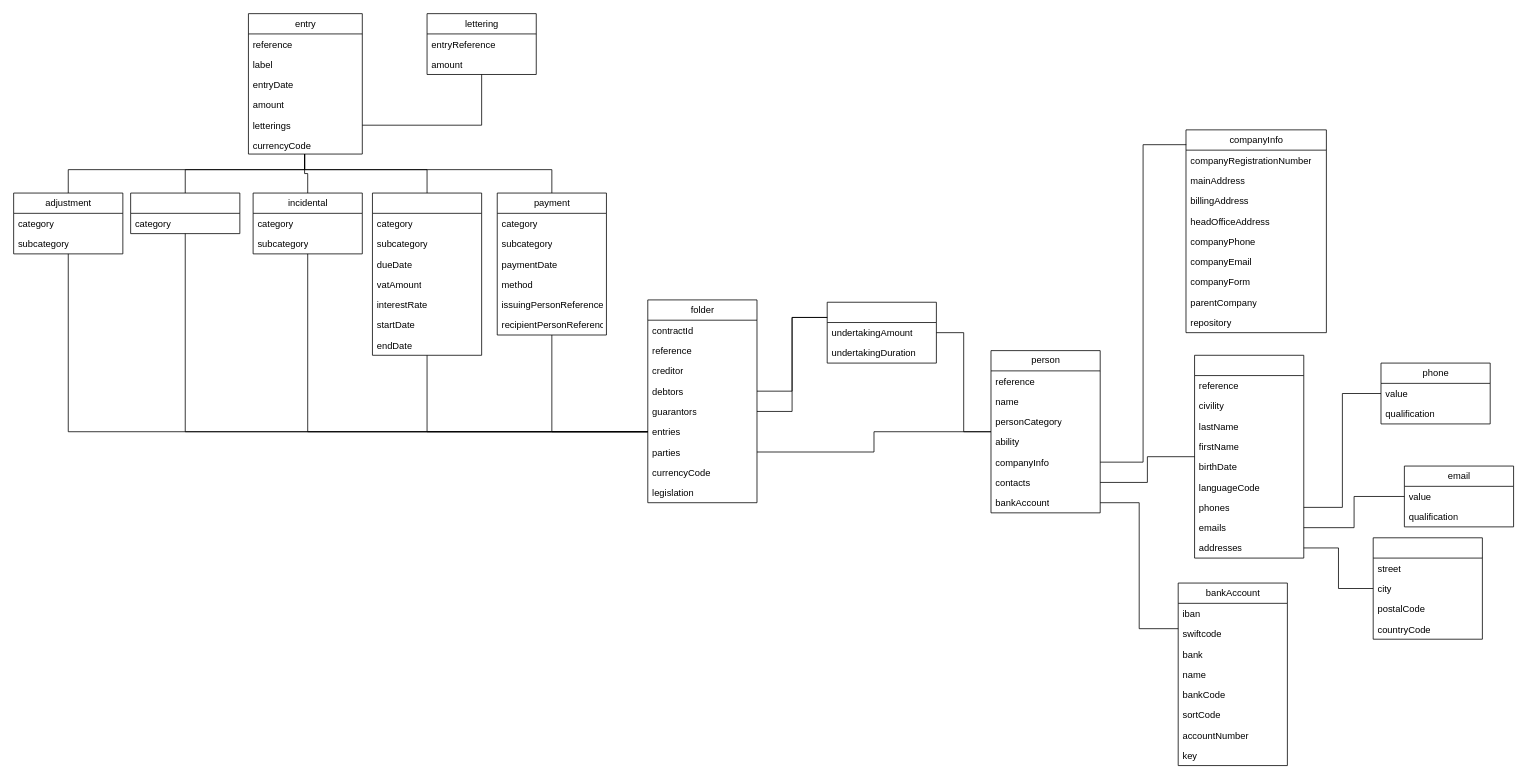
This 1527x782 diagram has some shape labels left out. The shapes that lost their labels are listed below. From the top down, each one's box as (x1, y1, x2, y2) in pixels, then its label:
(130, 192, 240, 234): creditNote
(372, 192, 482, 355): debt
(826, 301, 936, 363): debtor
(1194, 355, 1304, 558): contact
(1372, 537, 1482, 639): address
